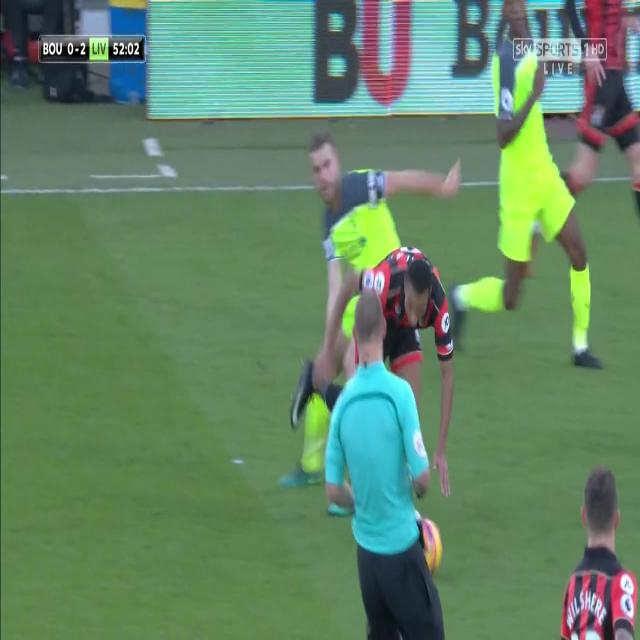Ball: (416, 511, 445, 578)
Player: (450, 0, 607, 372), (300, 133, 465, 264), (381, 228, 461, 448), (565, 0, 639, 221), (558, 460, 640, 640)
Referee: (325, 289, 449, 637)
